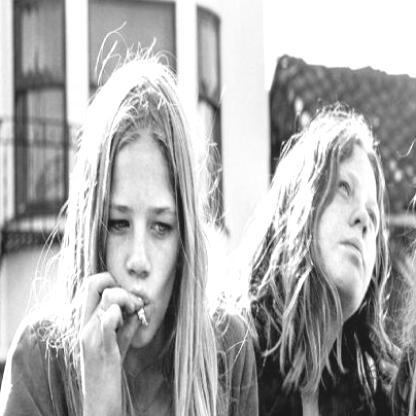person: (13, 56, 252, 416), (235, 100, 402, 415)
